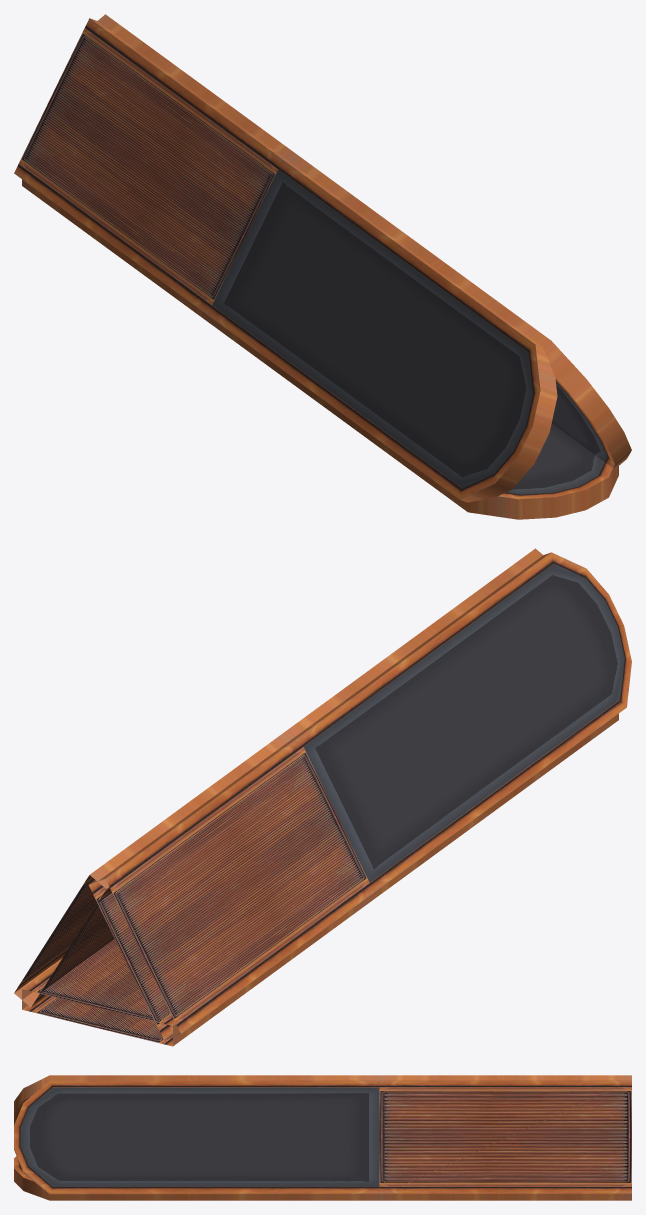
Rendered from SJP.gltf.
The picture shows the model from 3 angles, top to bottom: view 1: azimuth 30°, elevation 25°; view 2: azimuth 150°, elevation 25°; view 3: azimuth 270°, elevation 25°; orthographic projection. The views are drawn at different scales.
Bounding box in the file's own units: 7.33 × 6.35 × 36.
2 materials, 2 textured.
